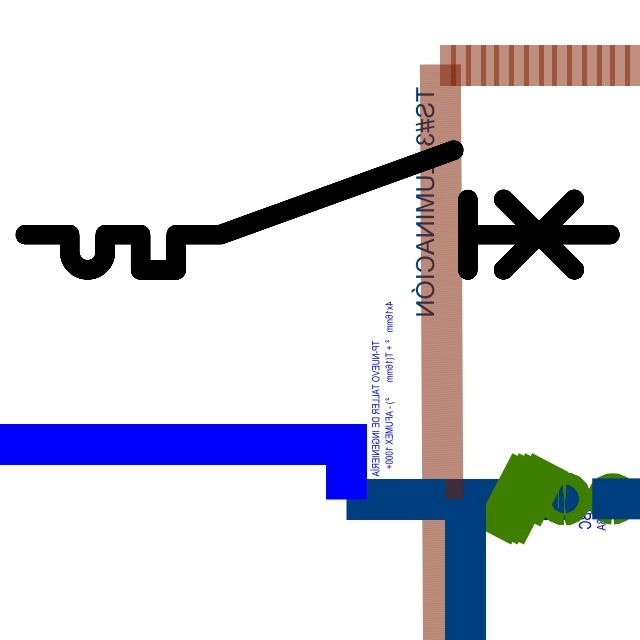interruptor_termomagnetico: (10, 135, 625, 285)
